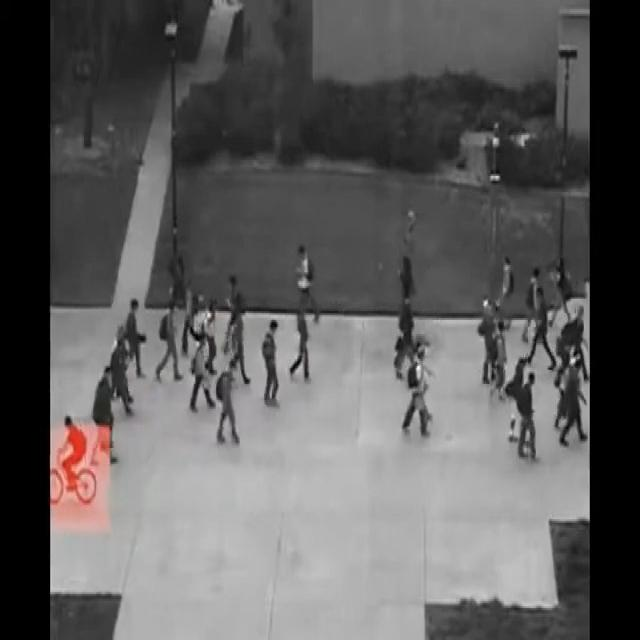anamoly: (45, 390, 123, 542)
